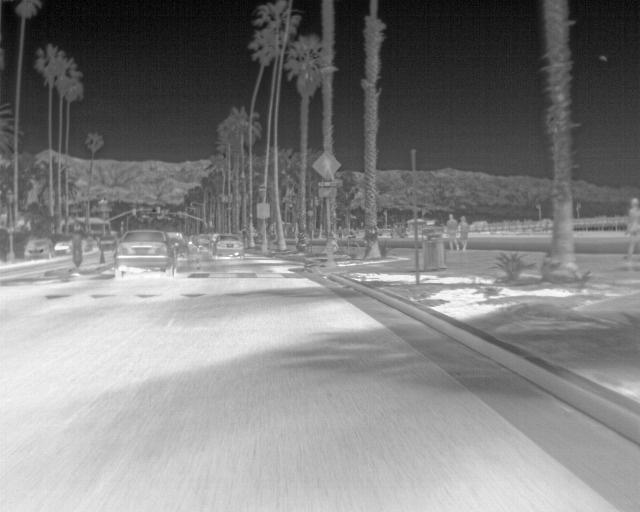bicycle: (113, 228, 180, 272), (212, 230, 247, 256), (22, 236, 52, 262), (50, 239, 69, 255)
empty: (624, 195, 639, 260), (456, 213, 472, 251), (443, 213, 457, 249)
